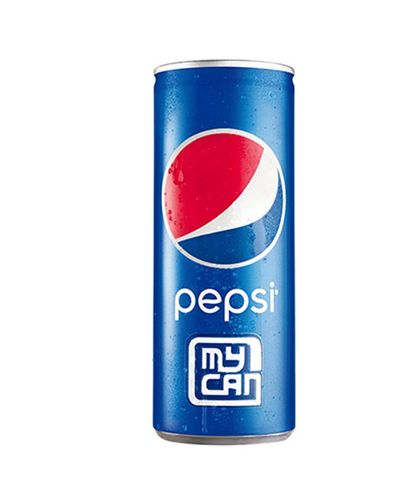pepsi: (160, 127, 285, 267)
